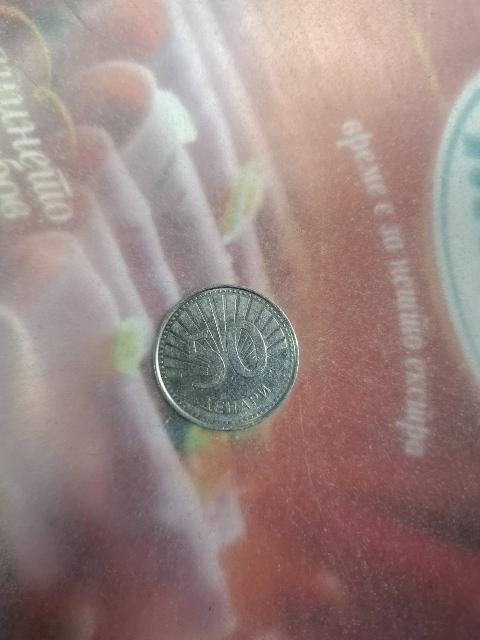50_coin: (160, 288, 304, 434)
